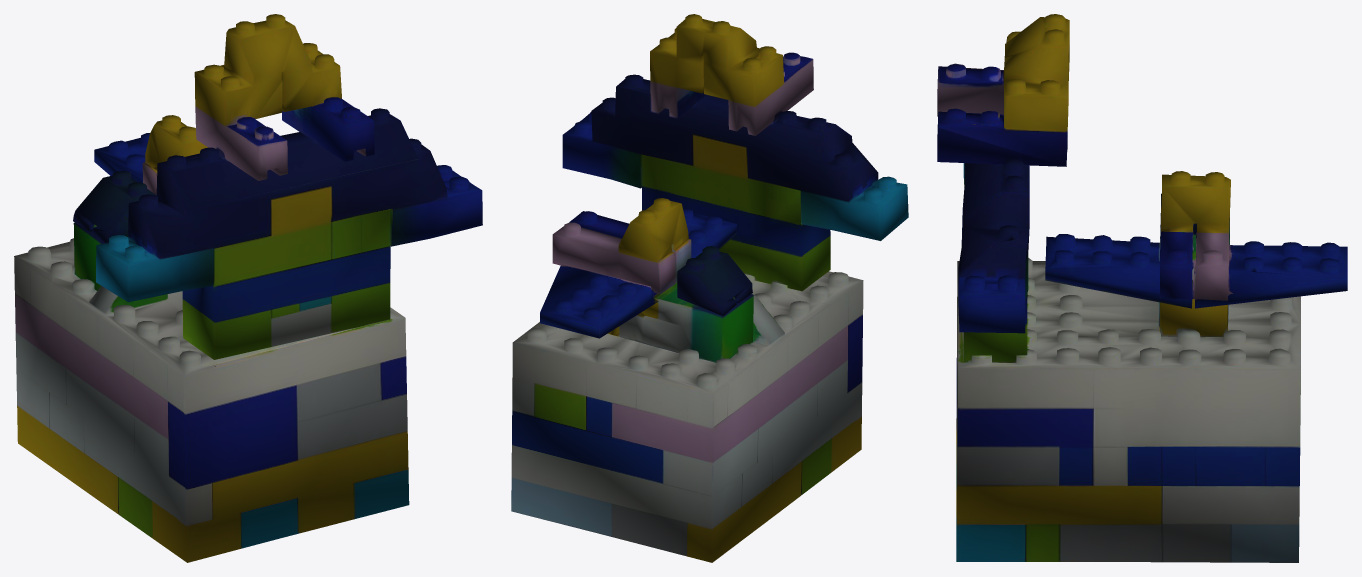
Rendered from object_59_asset_1ca2a7f8.glb.
3 views of the same model, side by side, from view 1: azimuth 30°, elevation 25°; view 2: azimuth 150°, elevation 25°; view 3: azimuth 270°, elevation 25° (orthographic). The views are drawn at different scales.
Parts seen in each view (by area): view 1: tripo_node_aaf5bd26-76c1-471f-b6f5-a4bf35f67f1b; view 2: tripo_node_aaf5bd26-76c1-471f-b6f5-a4bf35f67f1b; view 3: tripo_node_aaf5bd26-76c1-471f-b6f5-a4bf35f67f1b.
Part boxes in pixels (bbox=[...]): tripo_node_aaf5bd26-76c1-471f-b6f5-a4bf35f67f1b: bbox=[14, 14, 482, 562]; tripo_node_aaf5bd26-76c1-471f-b6f5-a4bf35f67f1b: bbox=[511, 14, 908, 562]; tripo_node_aaf5bd26-76c1-471f-b6f5-a4bf35f67f1b: bbox=[937, 14, 1347, 562].
Bounding box in the file's own units: 0.7715 × 0.998 × 0.7559.
Materials: 1 (1 with a texture image).
